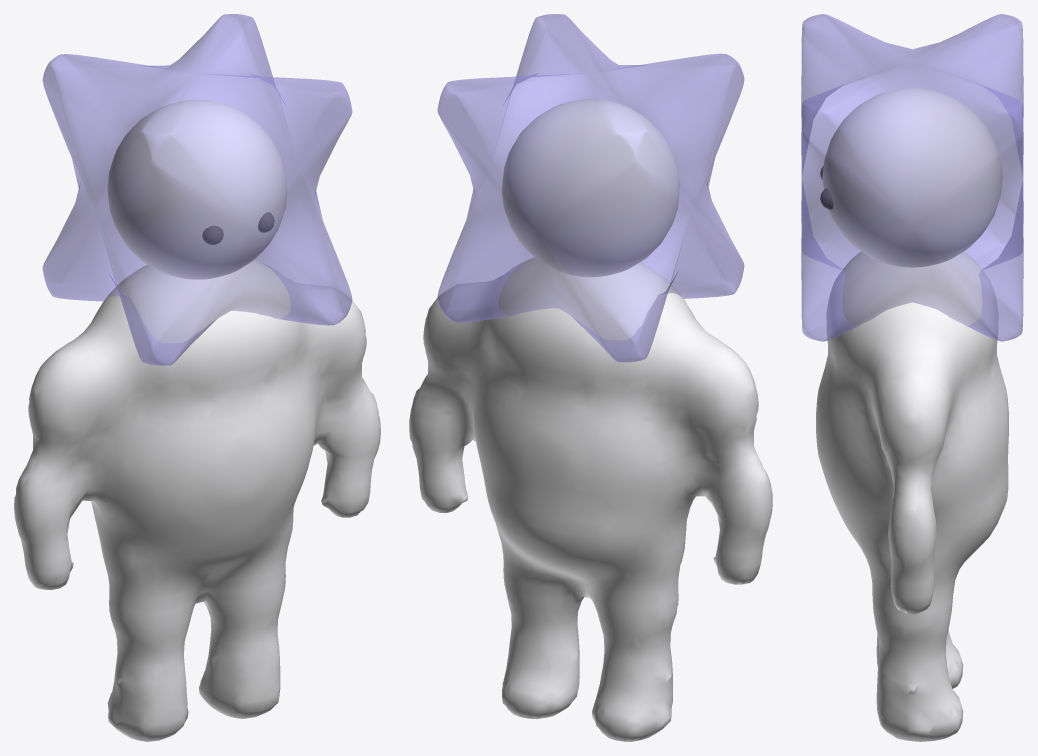
File: thinker.glb
3 views of the same model, side by side, from view 1: azimuth 30°, elevation 25°; view 2: azimuth 150°, elevation 25°; view 3: azimuth 270°, elevation 25° (orthographic).
Visible parts, largest first — view 1: Body, Helmet_Shell, Head_Inner; view 2: Body, Helmet_Shell, Head_Inner; view 3: Helmet_Shell, Body, Head_Inner.
Boxes of the visible parts, x1,y1,x2,y2 form: Body: (14,260,380,741); Helmet_Shell: (42,14,352,365); Head_Inner: (107,99,287,279); Body: (409,257,772,741); Helmet_Shell: (437,14,744,362); Head_Inner: (502,99,679,277); Helmet_Shell: (801,14,1023,341); Body: (816,252,1008,741); Head_Inner: (822,87,1002,267).
Bounding box in the file's own units: 0.9152 × 1.6 × 0.493.
